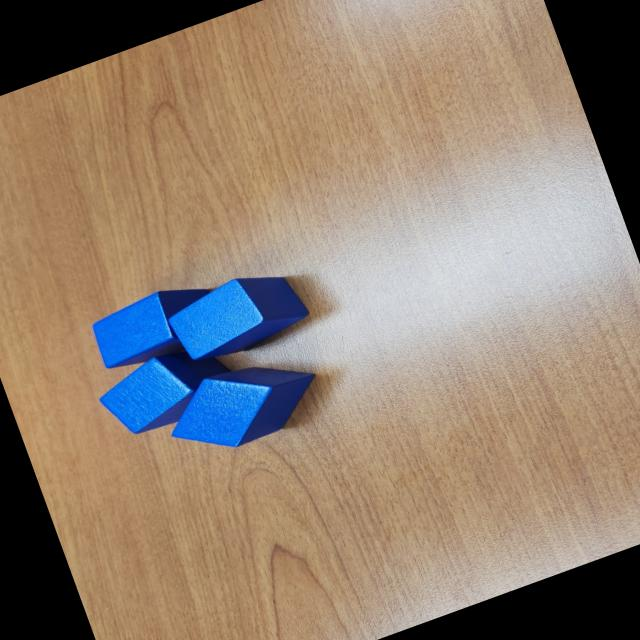blue: (156, 342, 330, 468), (162, 259, 314, 372), (91, 334, 242, 444), (88, 274, 226, 378)
